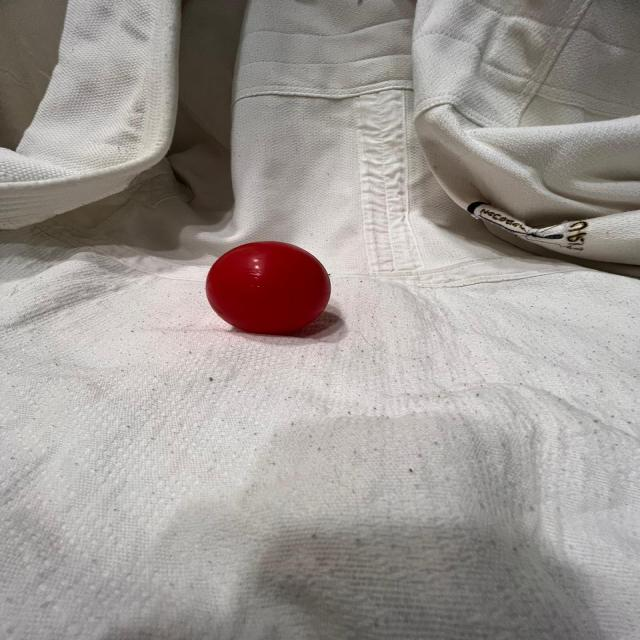ball: (204, 238, 334, 334)
